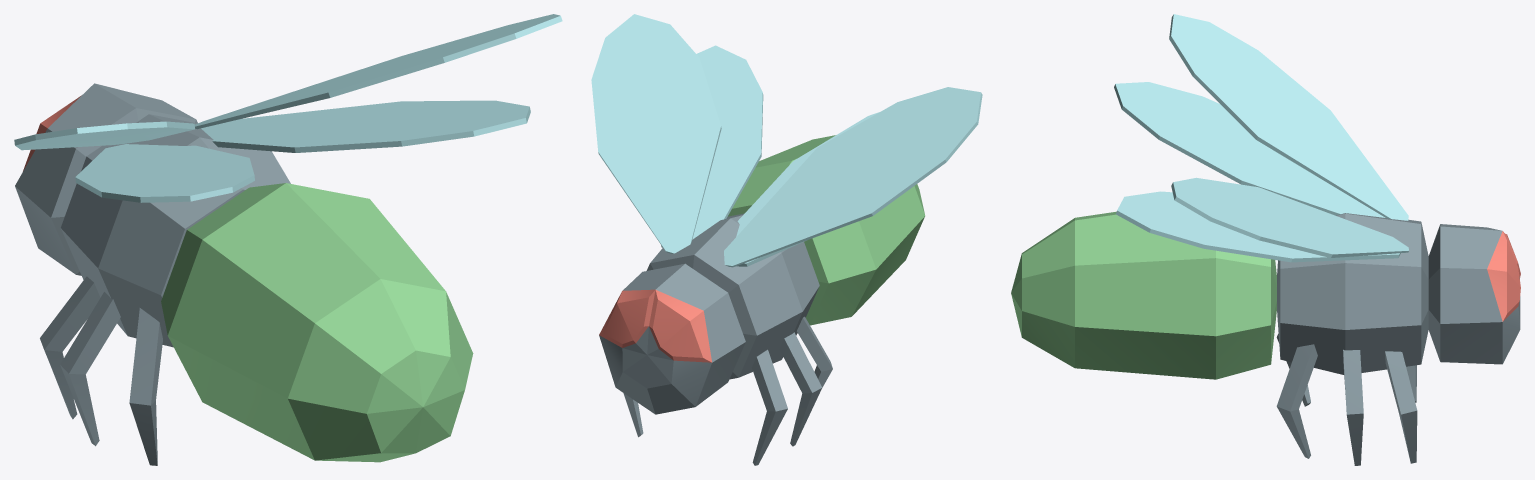
File: Fly.dae
3 renders of one model, left to right at view 1: azimuth 30°, elevation 25°; view 2: azimuth 150°, elevation 25°; view 3: azimuth 270°, elevation 25°, orthographic. The views are drawn at different scales.
Parts seen in each view (by area): view 1: Circle_004_Circle_001; view 2: Circle_004_Circle_001; view 3: Circle_004_Circle_001.
Boxes of the visible parts, x1=… form: Circle_004_Circle_001: x1=14, y1=14, x2=562, y2=465; Circle_004_Circle_001: x1=591, y1=14, x2=982, y2=465; Circle_004_Circle_001: x1=1011, y1=14, x2=1520, y2=465.
Bounding box in the file's own units: 6.31 × 7.15 × 5.15.
